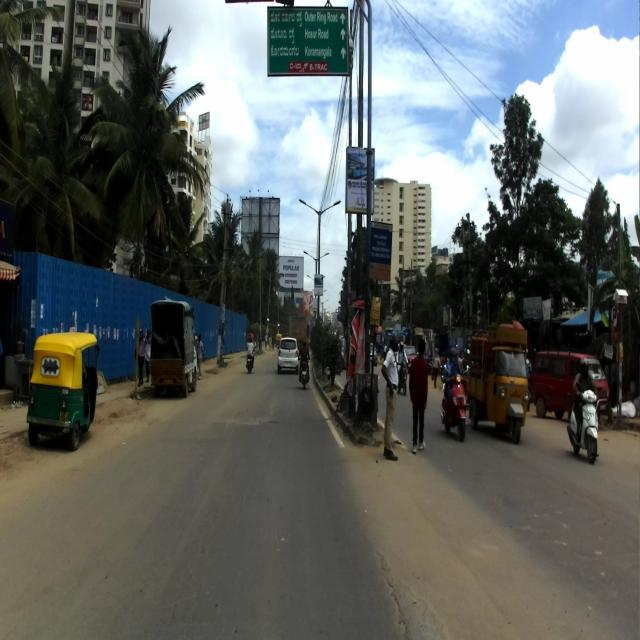autorickshaw: (25, 330, 100, 452), (463, 321, 529, 445)
car: (530, 350, 610, 425), (278, 338, 298, 376)
scooter: (566, 379, 602, 466), (439, 368, 469, 441)
